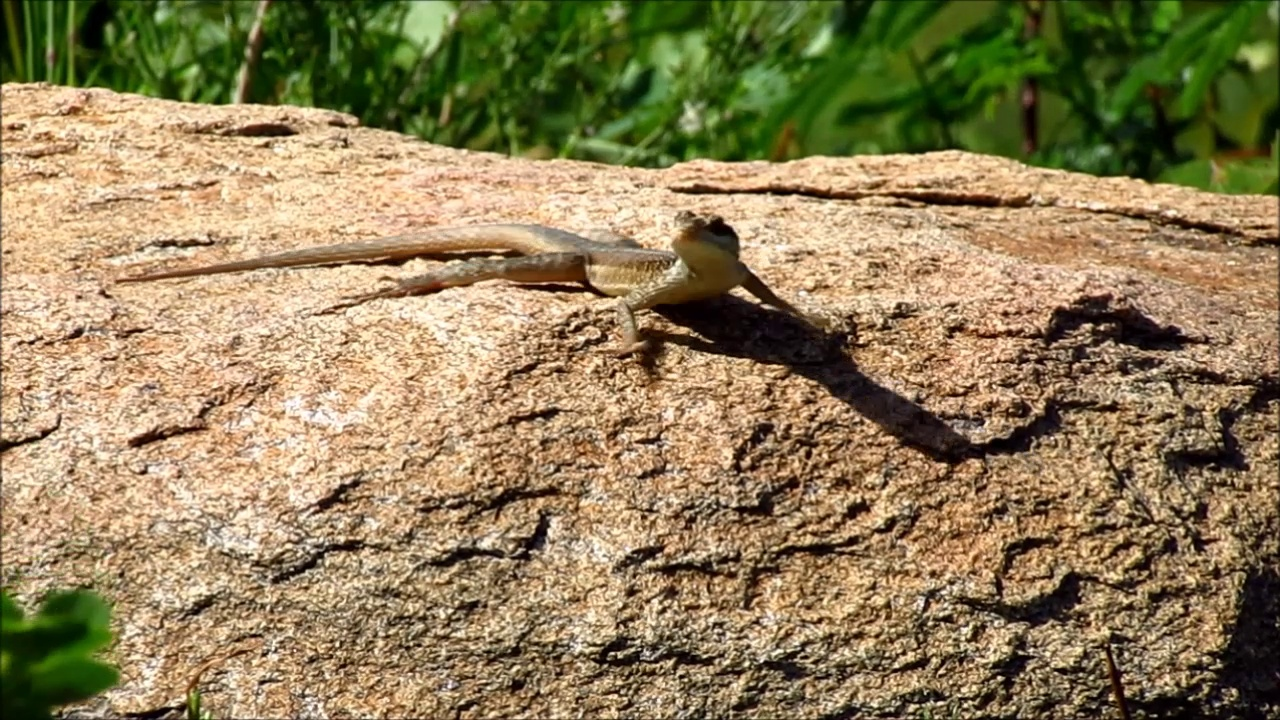body: (114, 223, 807, 358)
head: (668, 208, 738, 267)
